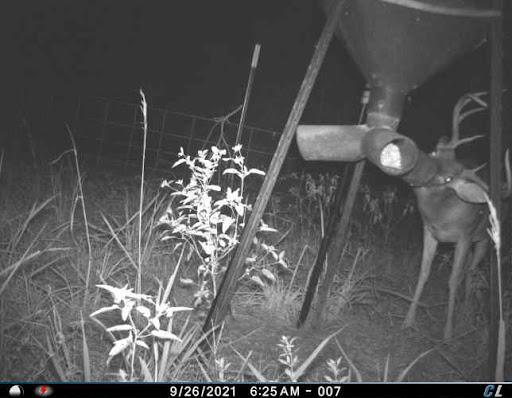Deer: (397, 88, 512, 348)
